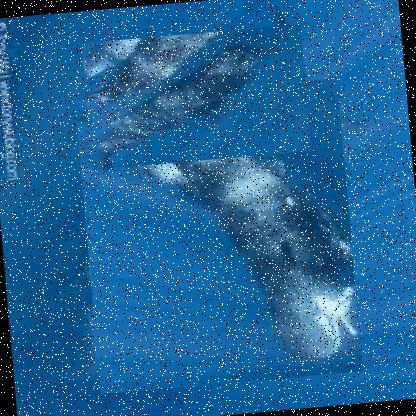sperm_whale: (74, 77, 363, 394), (80, 23, 311, 170)
